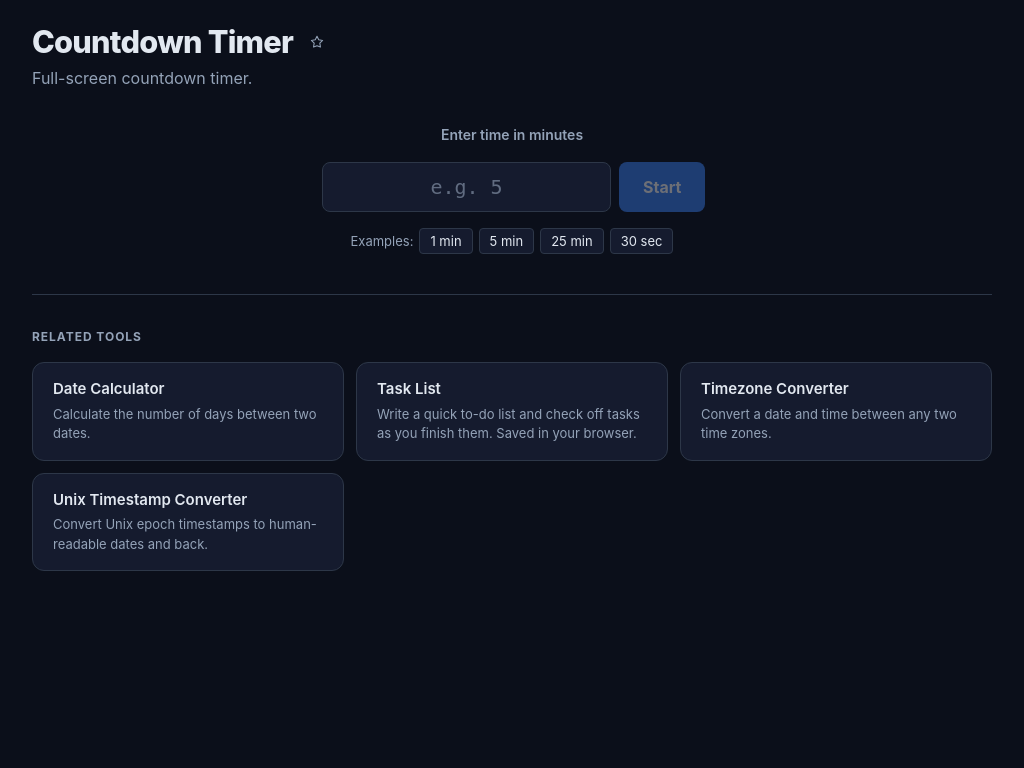
it: CountdownTimer — overlay › shows the overlay after starting
In the field named "timer duration": (466, 187) [322,162,611,212], type "1"
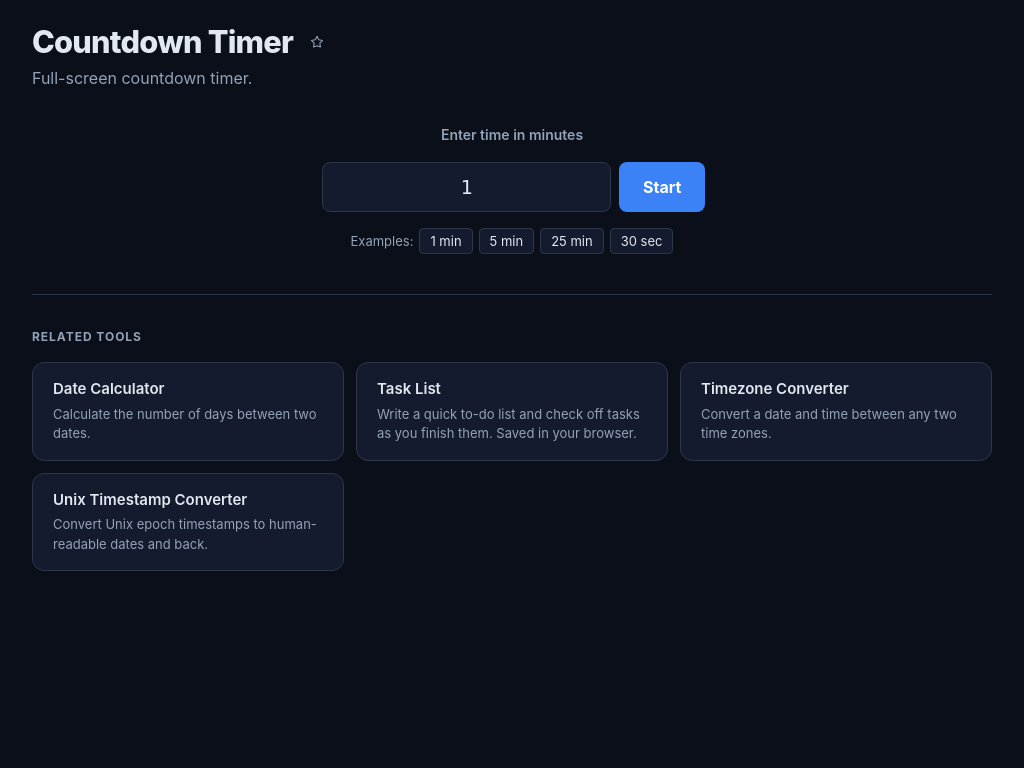
Submit the form named "timer duration", box [322,124,702,254]
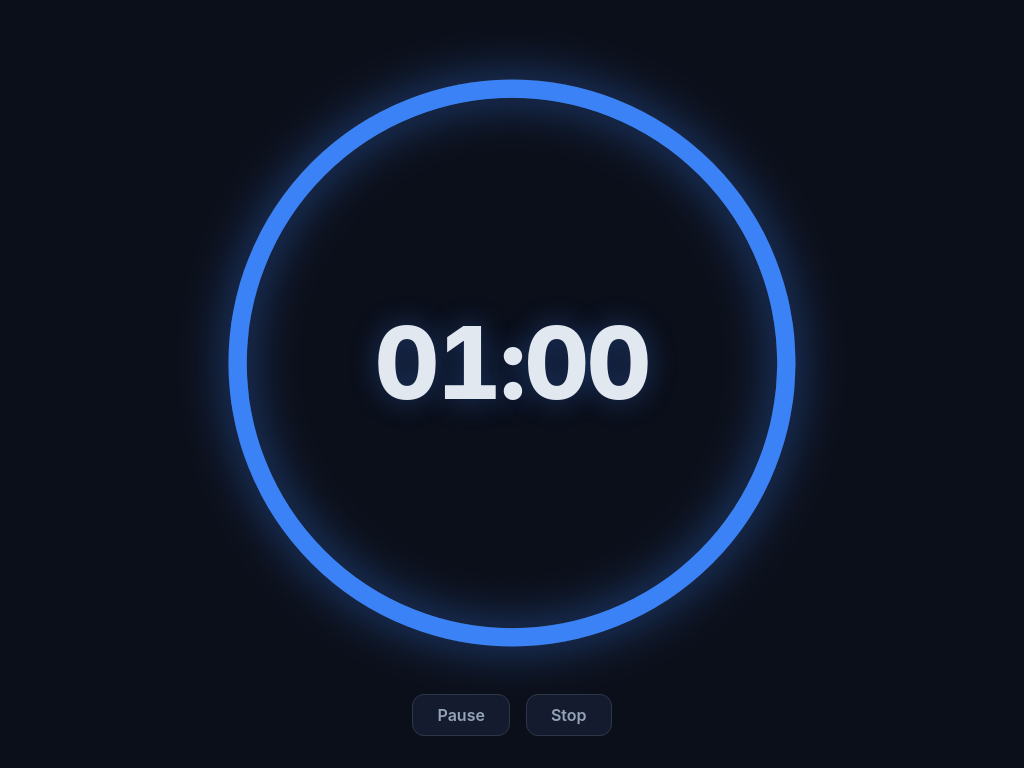
Expected: the dialog named "countdown timer" is shown
